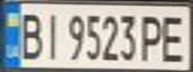2: (100, 11, 121, 62)
3: (118, 11, 142, 62)
5: (81, 10, 103, 62)
9: (63, 10, 84, 61)
B: (15, 8, 45, 61)
E: (157, 11, 190, 63)
I: (39, 8, 63, 61)
P: (139, 10, 169, 62)
